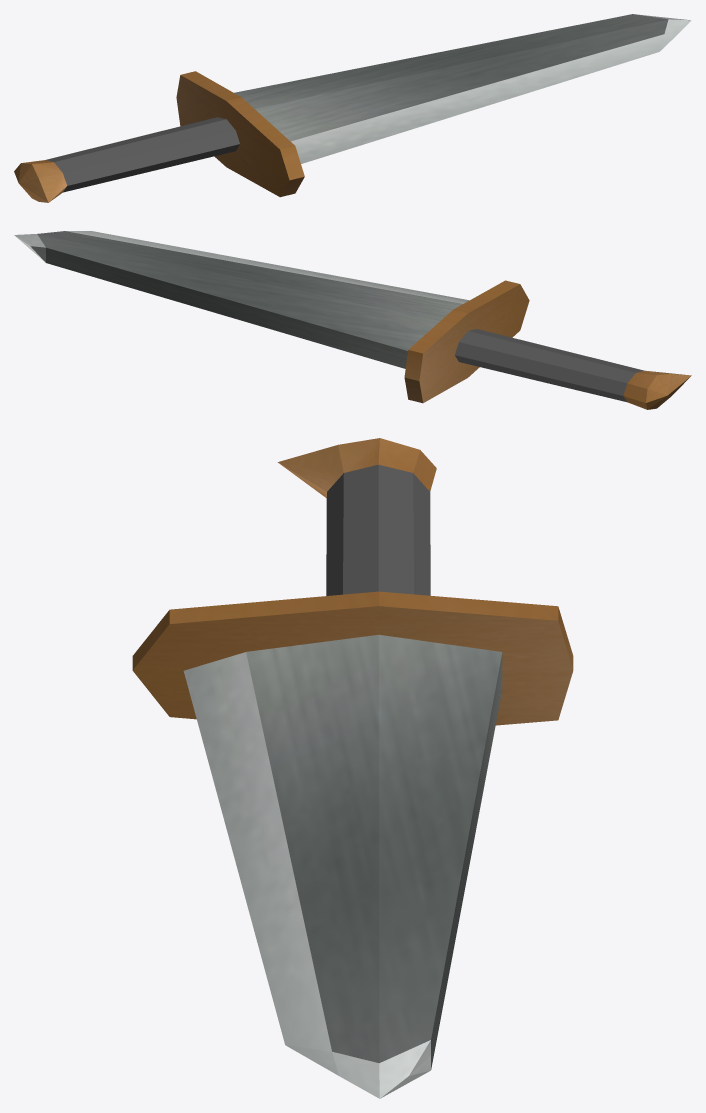
The model's file is seisaku_knife.obj.
3 views of the same model, one above another, from view 1: azimuth 30°, elevation 25°; view 2: azimuth 150°, elevation 25°; view 3: azimuth 270°, elevation 25° (orthographic). The views are drawn at different scales.
Parts seen in each view (by area): view 1: 立方体; view 2: 立方体; view 3: 立方体.
Part boxes in pixels (left/top/right/bottom): 立方体: left=14, top=14, right=691, bottom=202; 立方体: left=14, top=231, right=691, bottom=409; 立方体: left=132, top=438, right=573, bottom=1098.
Bounding box in the file's own units: 7.38 × 0.6944 × 2.15.
